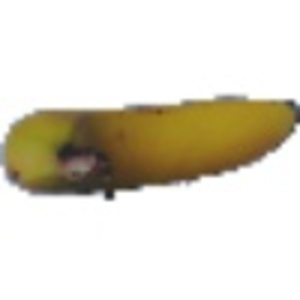banana: (1, 99, 293, 196)
